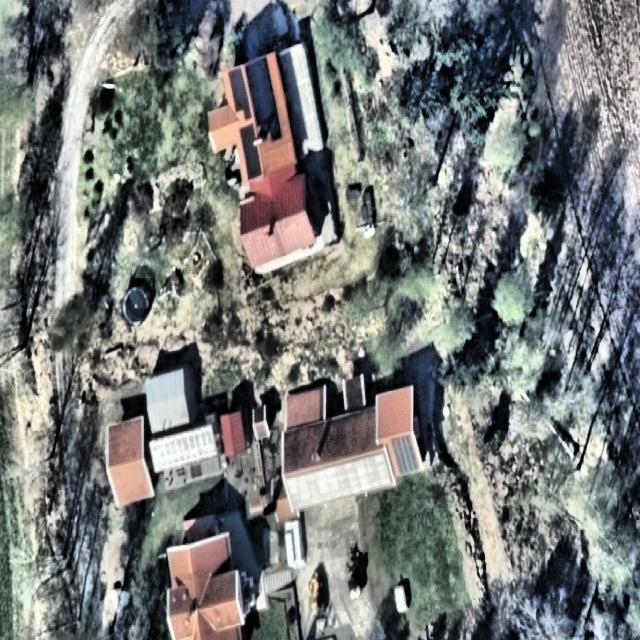roof_pv: (236, 119, 262, 184), (389, 429, 422, 478), (226, 63, 254, 120)
